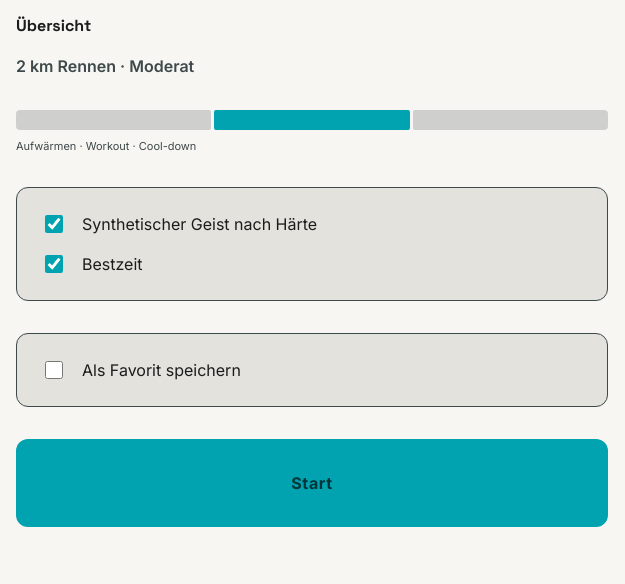
it: ConfirmScreen › toggling synth-ghost off shows "Intensität wirkt sich nicht aus." note; on hides it
The image size is (625, 584).
Expected: the text "Intensität wirkt sich nicht aus." is not shown
Click the checkbox labelled "Synthetischer Geist nach Härte" at (54, 224), box 45,214 -> 63,232
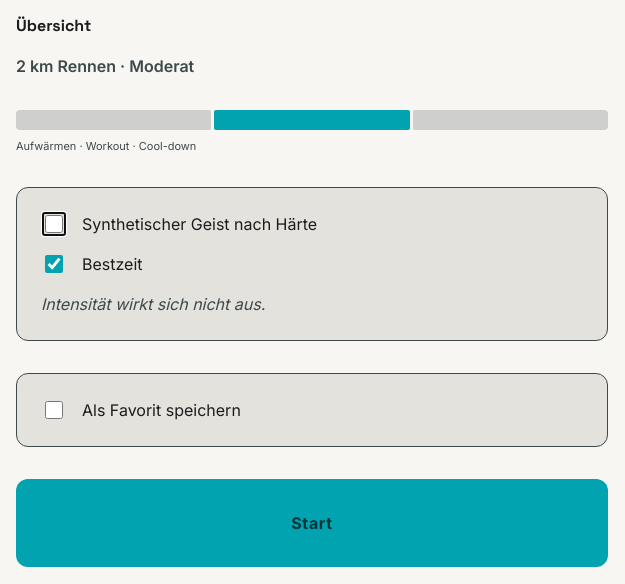
Expected: the text "Intensität wirkt sich nicht aus." is shown, 41,294 -> 265,314
Click the checkbox labelled "Synthetischer Geist nach Härte" at (54, 224), box 45,214 -> 63,232
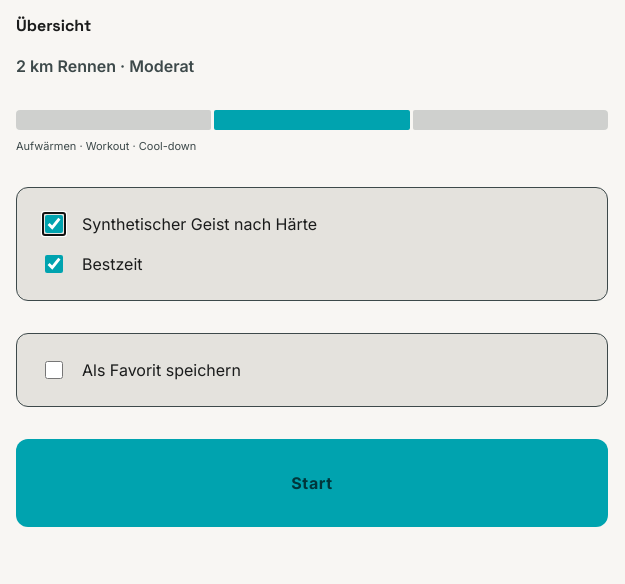
Expected: the text "Intensität wirkt sich nicht aus." is gone
